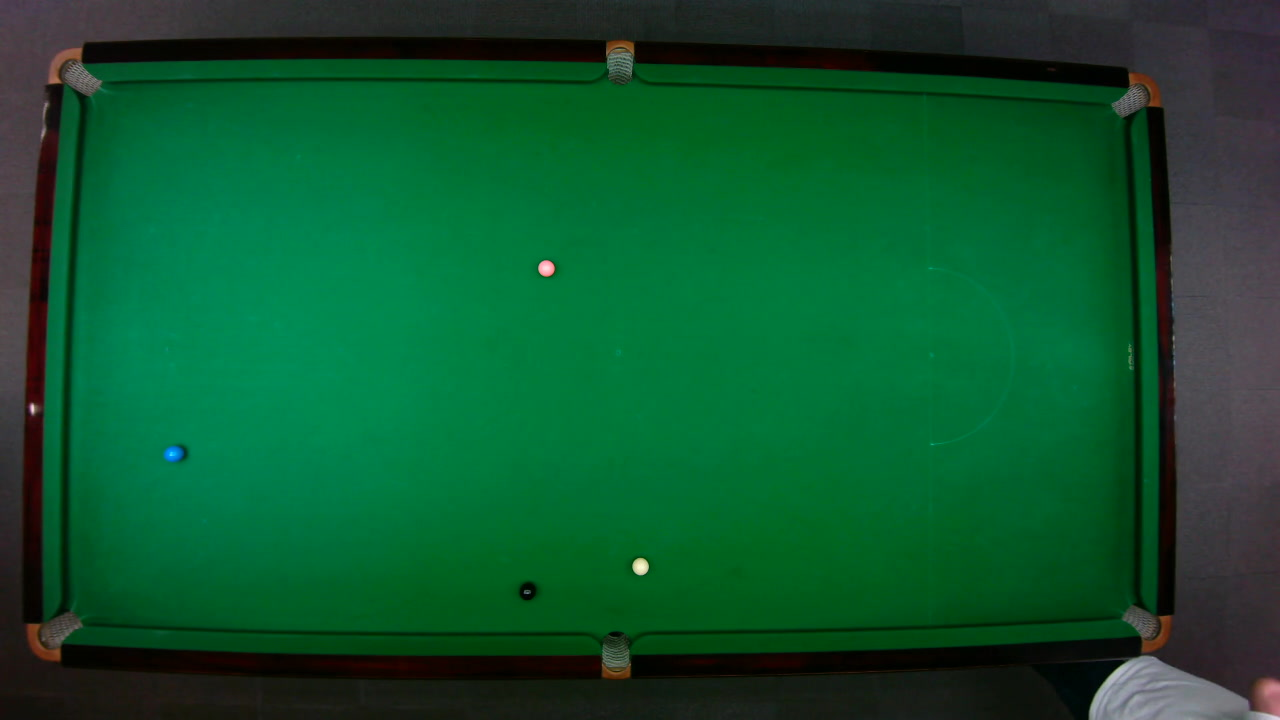bag: (24, 609, 83, 661), (45, 46, 102, 96), (1119, 603, 1172, 652), (1108, 71, 1161, 118), (601, 629, 630, 679), (605, 38, 633, 85)
black: (518, 581, 536, 600)
blue: (162, 444, 184, 462)
pink: (536, 259, 555, 277)
white: (630, 555, 650, 575)
zone: (927, 266, 1013, 445)
